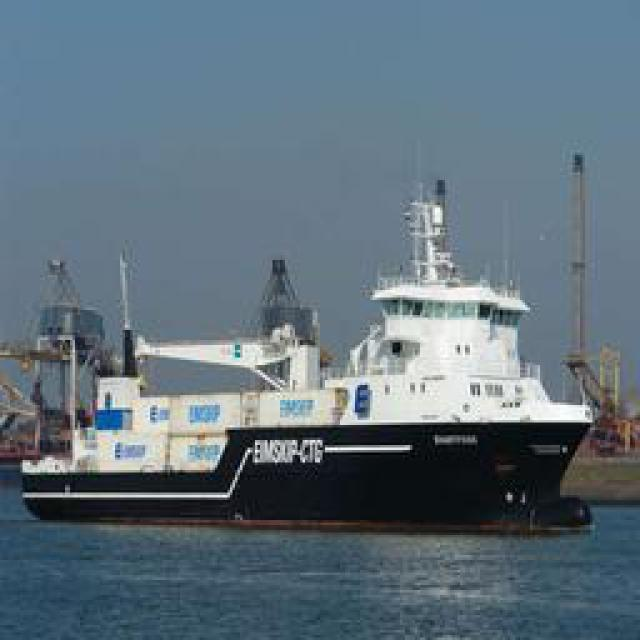Ship: (7, 166, 595, 519)
